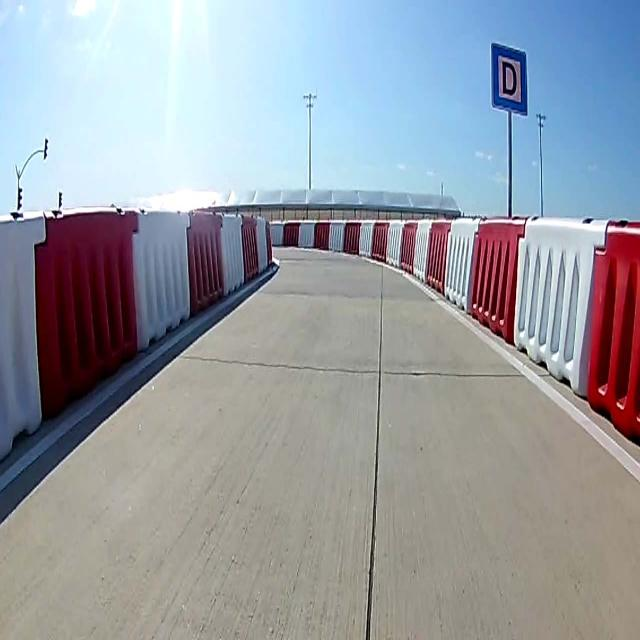durak: (488, 44, 527, 114)
